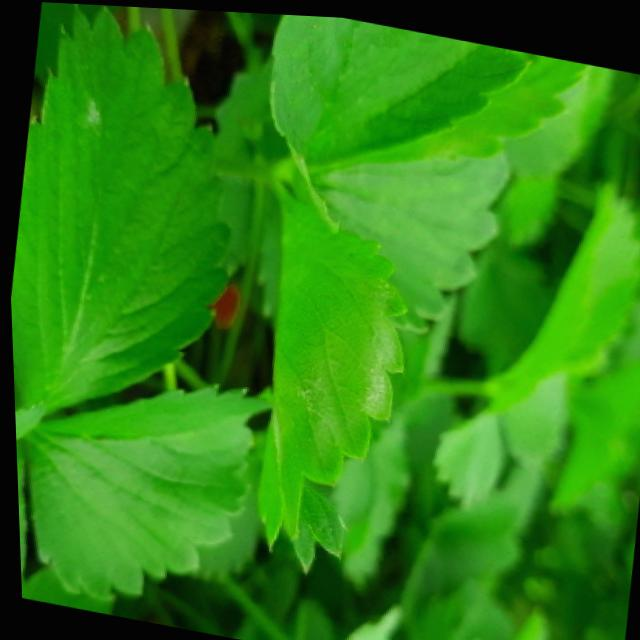Powdery Mildew Leaf: (9, 3, 233, 414), (253, 166, 405, 572)
